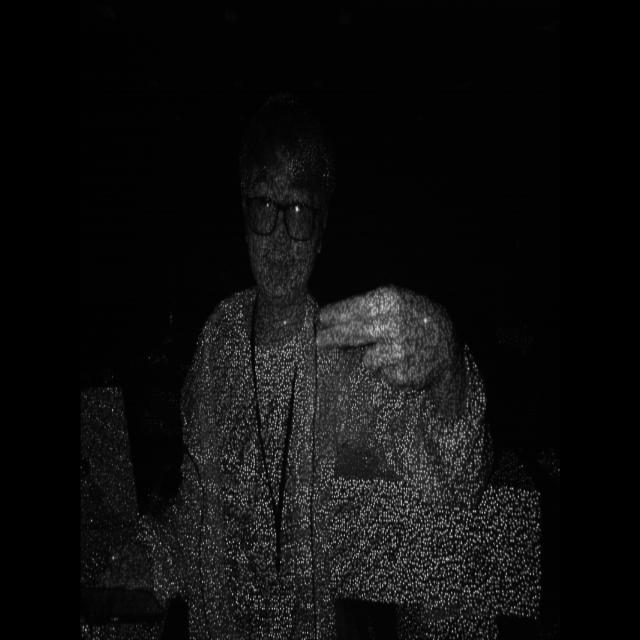H: (308, 279, 463, 412)
